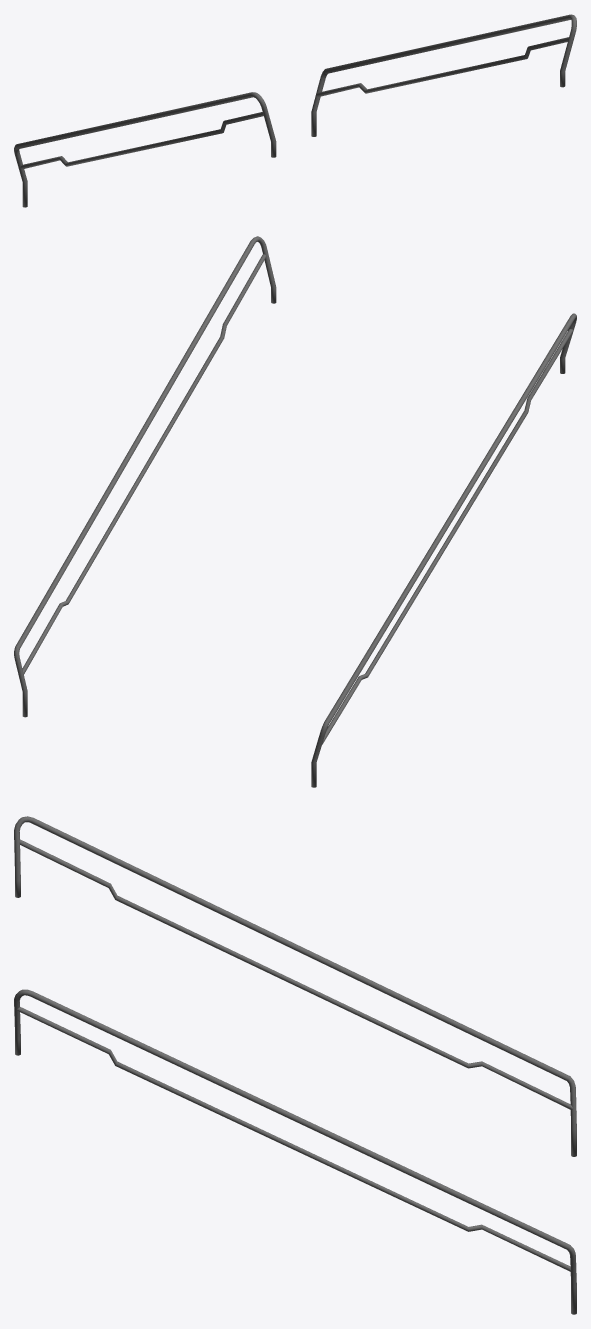
The model's file is sf_stair_rails_tall.glb.
The picture shows the model from 3 angles, top to bottom: view 1: azimuth 30°, elevation 25°; view 2: azimuth 150°, elevation 25°; view 3: azimuth 270°, elevation 25°; orthographic projection. The views are drawn at different scales.
Visible parts, largest first — view 1: Platform_Rails_4WideTall; view 2: Platform_Rails_4WideTall; view 3: Platform_Rails_4WideTall.
Part boxes in pixels (<box>): Platform_Rails_4WideTall: <box>14,14,576,207</box>; Platform_Rails_4WideTall: <box>14,236,576,787</box>; Platform_Rails_4WideTall: <box>14,816,576,1314</box>.
Size of the model in its own units: 4.25 by 3.72 by 5.73.
1 material, 1 textured.
